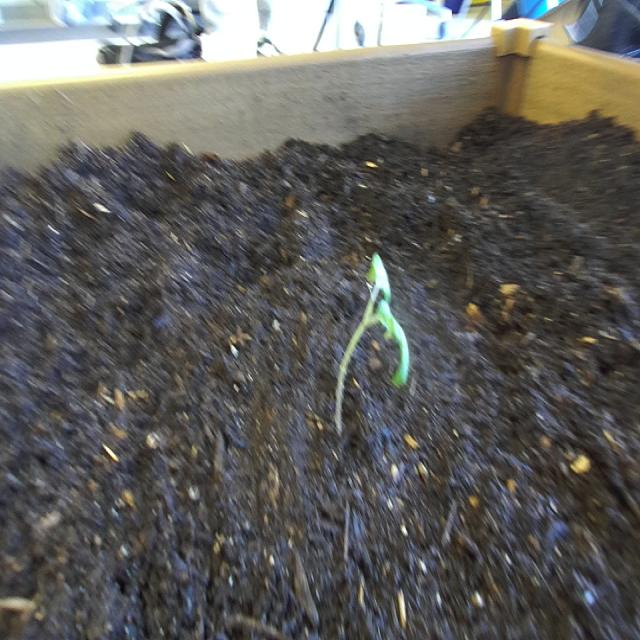Healthy: (326, 238, 413, 455)
